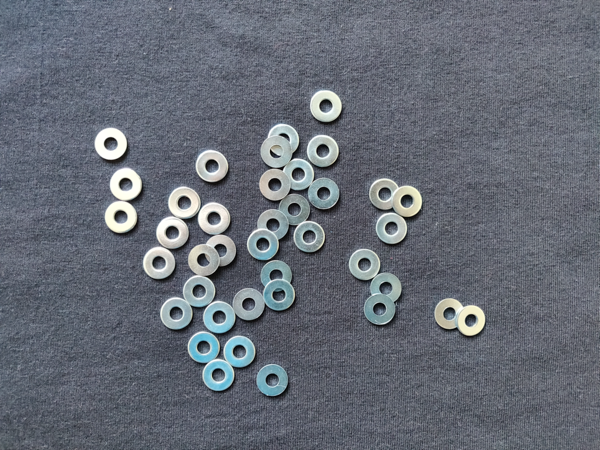circle: (103, 201, 140, 237), (108, 166, 145, 202), (165, 185, 202, 220), (95, 126, 130, 163), (392, 183, 426, 221), (375, 212, 410, 248), (231, 287, 267, 322), (308, 90, 345, 124), (305, 134, 342, 168), (157, 297, 195, 330), (370, 271, 405, 306), (262, 279, 297, 314), (143, 245, 178, 280), (256, 364, 292, 398), (201, 358, 237, 392), (202, 301, 239, 334), (256, 209, 291, 243), (196, 148, 230, 183), (203, 233, 237, 268), (278, 192, 311, 228), (187, 244, 221, 278), (363, 294, 398, 327), (293, 220, 326, 255), (307, 178, 342, 211), (260, 135, 293, 170), (180, 276, 217, 307), (349, 249, 383, 282), (369, 178, 402, 212), (283, 158, 317, 191), (187, 333, 222, 365), (198, 202, 230, 237), (155, 217, 190, 249), (435, 298, 468, 331), (268, 122, 300, 156), (259, 260, 293, 292), (223, 337, 257, 369), (247, 228, 280, 260), (260, 169, 291, 201), (456, 305, 486, 337)
